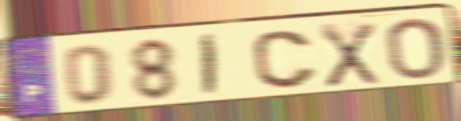0: (59, 42, 118, 107)
8: (127, 36, 181, 104)
C: (249, 28, 320, 92)
I: (200, 32, 219, 99)
O: (383, 15, 447, 82)
X: (318, 20, 381, 90)
